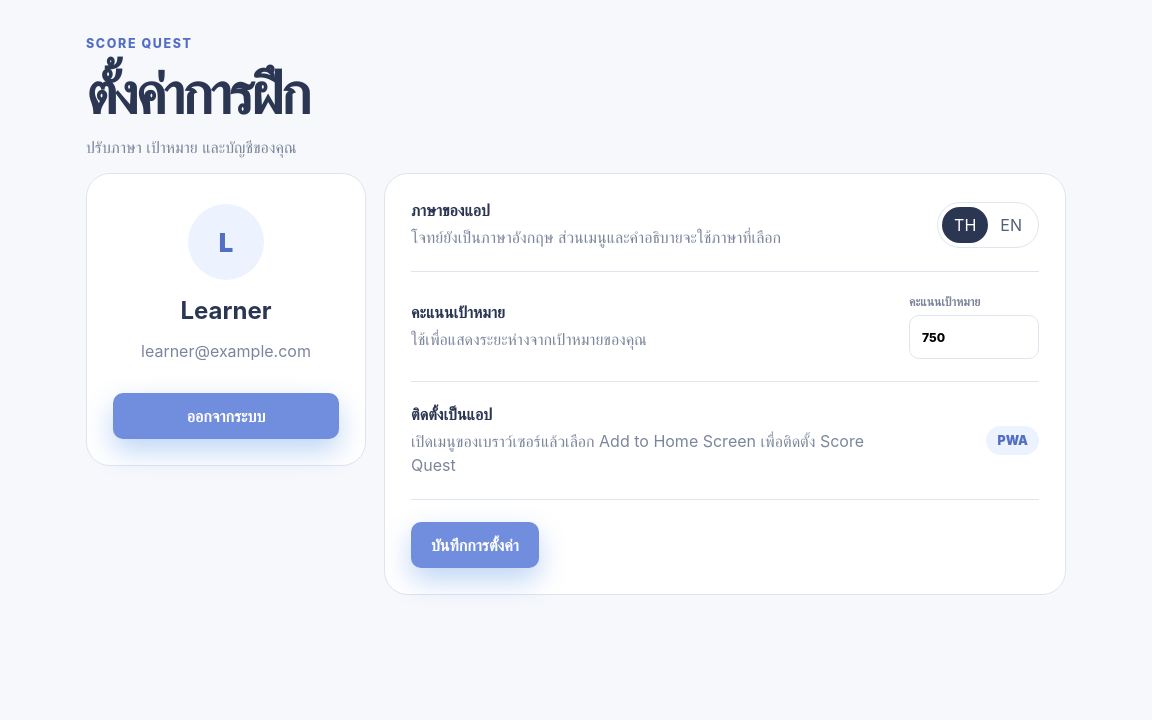
SettingsPage › saves a valid target score
Replace the text in the number field labelled "คะแนนเป้าหมาย" with "850". click: (974, 337)
box: x1=909 y1=315 x2=1039 y2=359
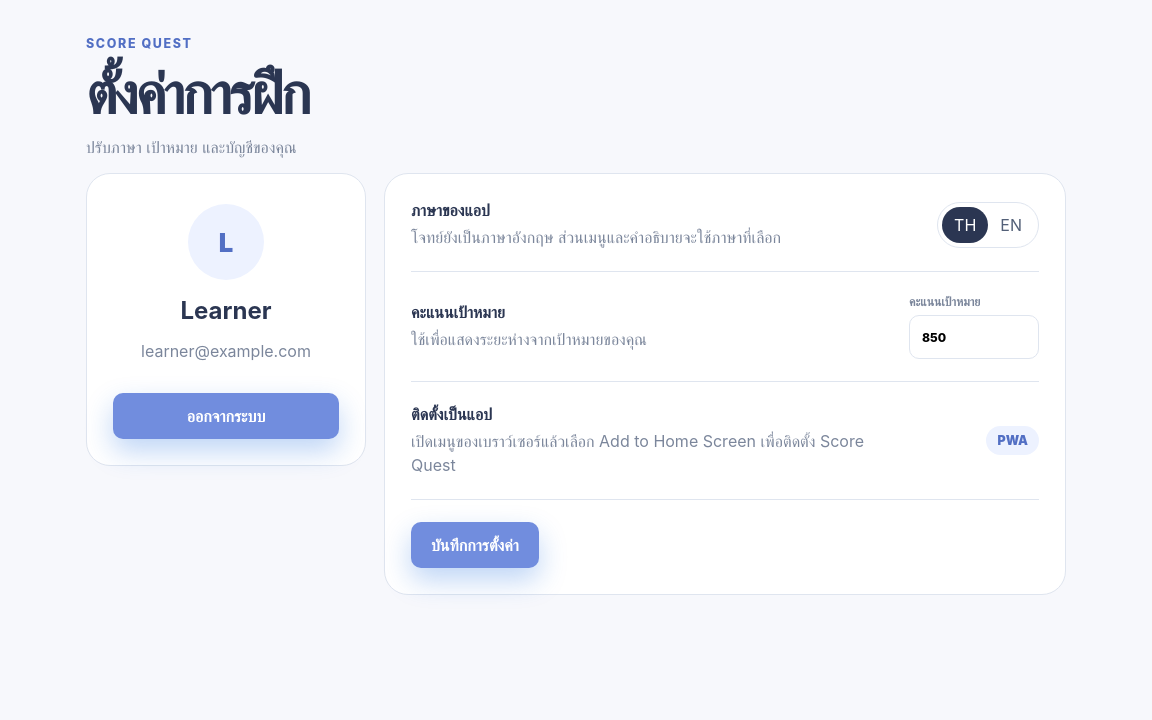
Click the button "บันทึกการตั้งค่า". click: (475, 545)
box: x1=411 y1=522 x2=539 y2=568
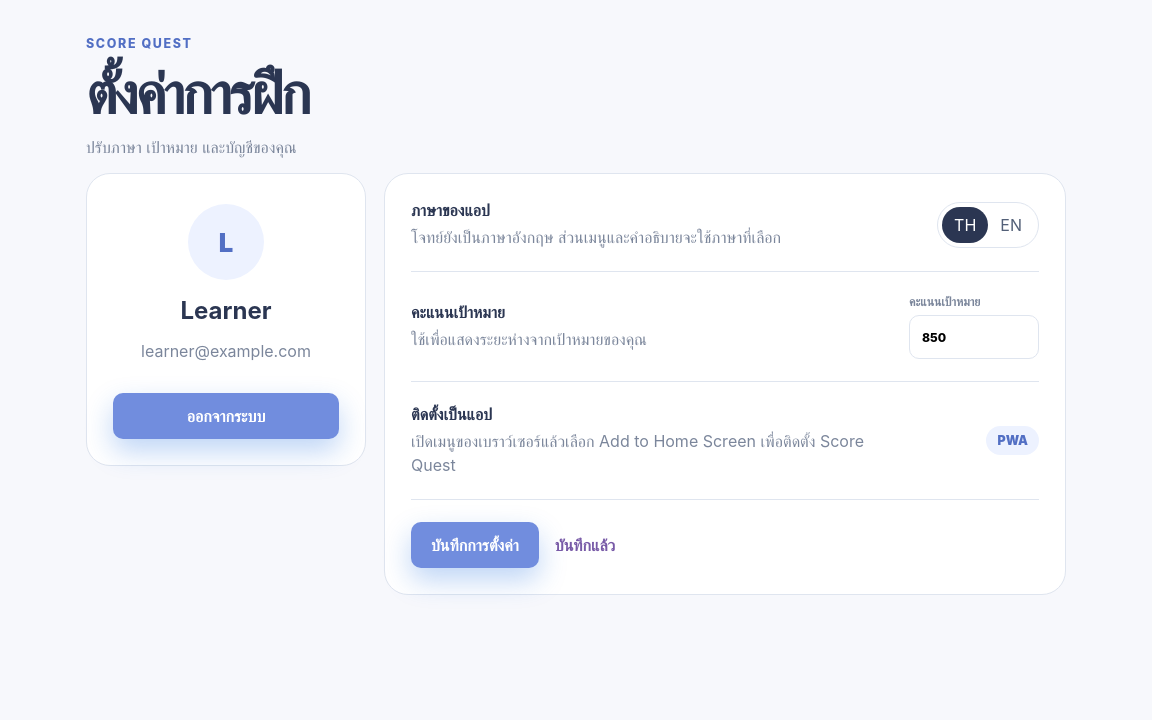
Expected: the message reads "บันทึกแล้ว", x1=555 y1=535 x2=615 y2=555
